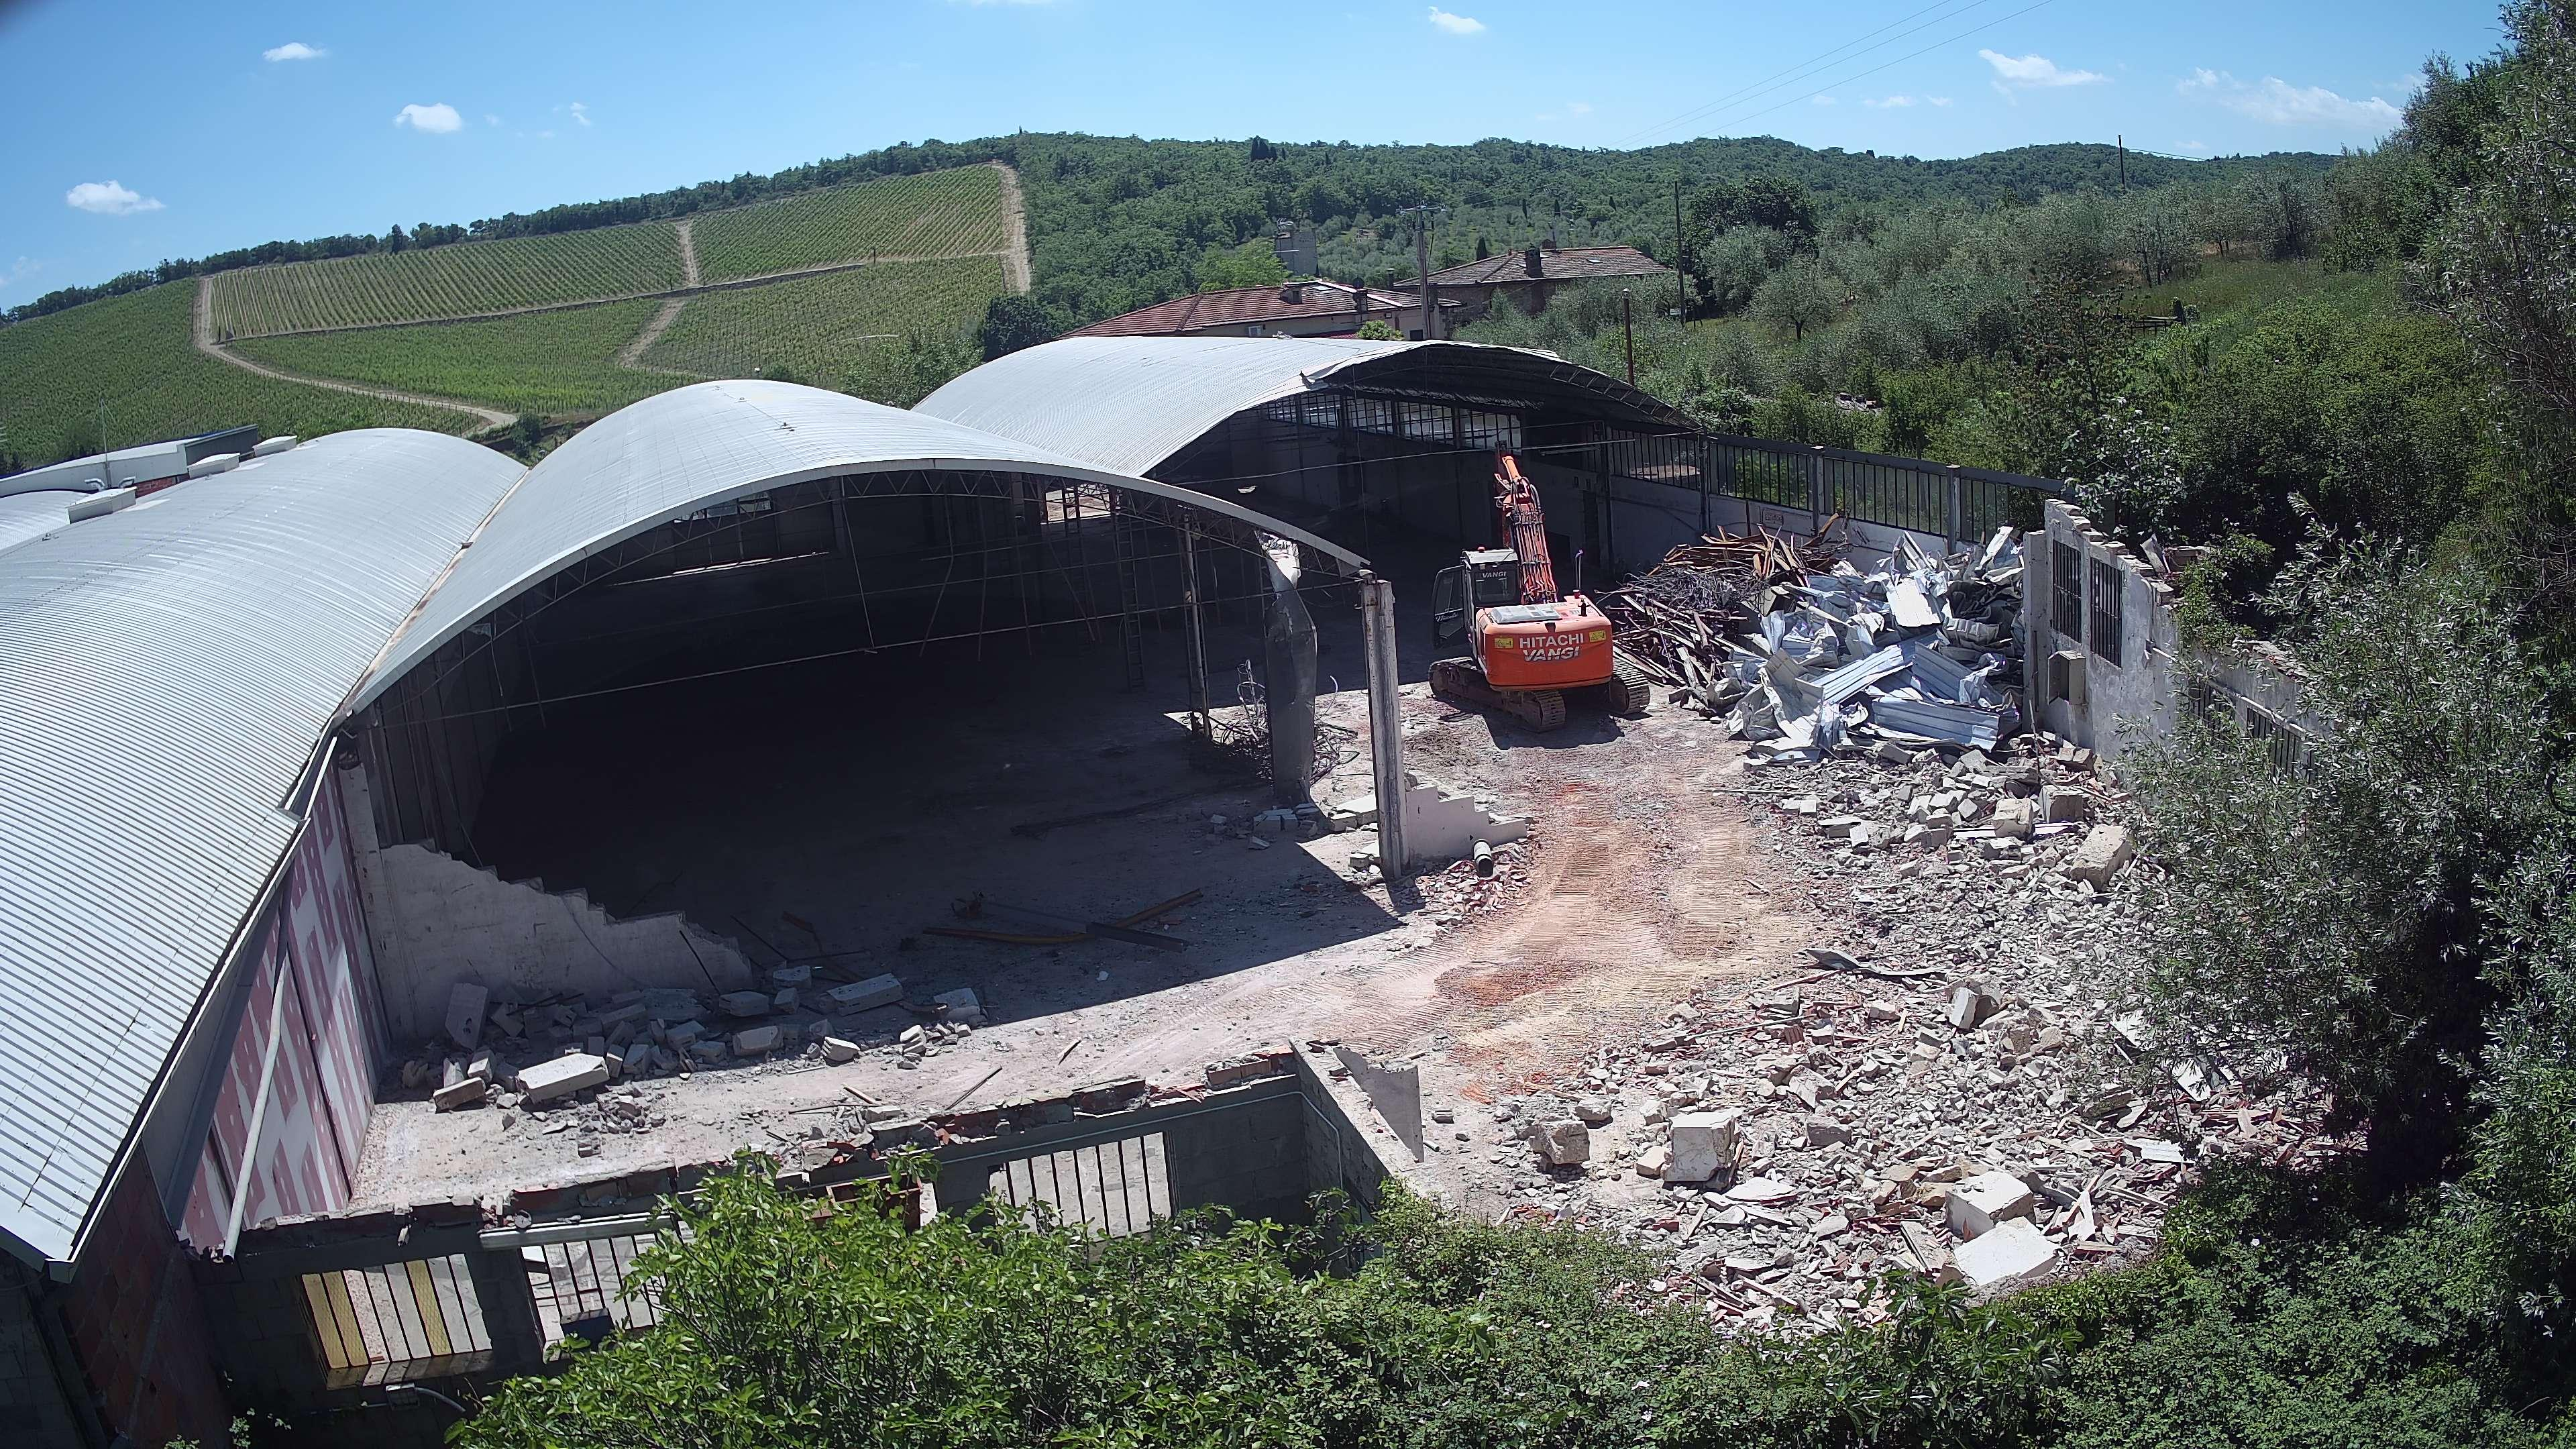excavator: (1428, 439, 1651, 732)
